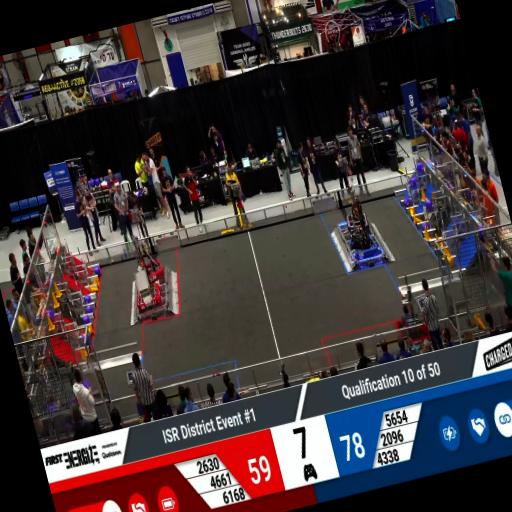robot: (384, 277, 434, 350), (128, 230, 167, 286), (128, 266, 164, 310), (340, 188, 372, 236), (345, 226, 380, 262)
